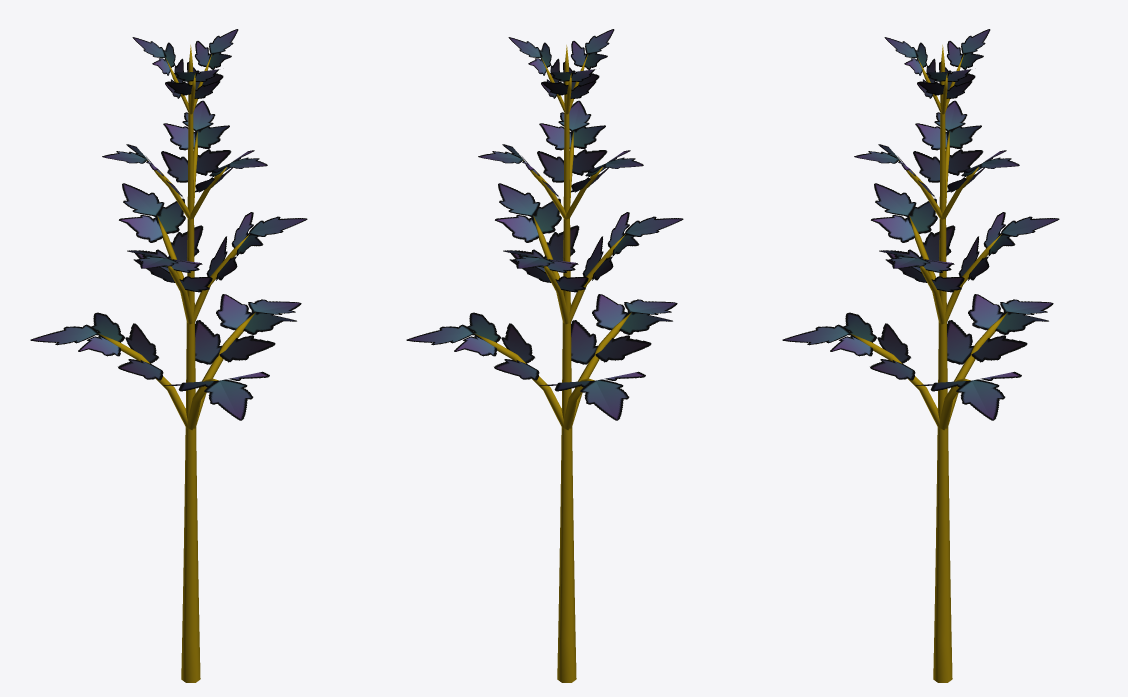
File: shrubs.glb
3 views of the same model, side by side, from view 1: azimuth 30°, elevation 25°; view 2: azimuth 150°, elevation 25°; view 3: azimuth 270°, elevation 25° (orthographic).
Parts seen in each view (by area): view 1: leaf, bark; view 2: leaf, bark; view 3: leaf, bark.
Part boxes in pixels (x1,y1,x2,y2): leaf: (30,29,307,420); bark: (98,45,255,682); leaf: (406,29,683,420); bark: (474,45,631,682); leaf: (782,29,1059,420); bark: (850,45,1007,682).
Bounding box in the file's own units: 1.47 × 2.91 × 1.44.
Materials: 2 (1 with a texture image).
